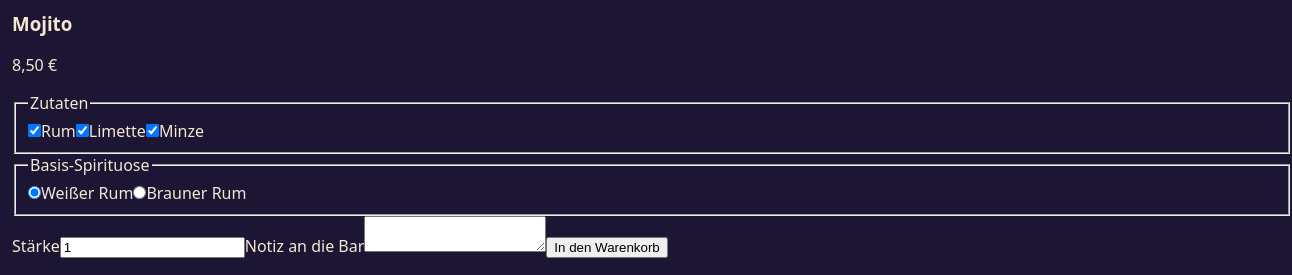
Scenario: Konfigurator › Auswahl einer anderen Basis-Spirituose wechselt die Selektion
The image size is (1292, 275).
Step 1. Click the radio button labelled "Brauner Rum" → (140, 192), box x1=133 y1=186 x2=146 y2=199
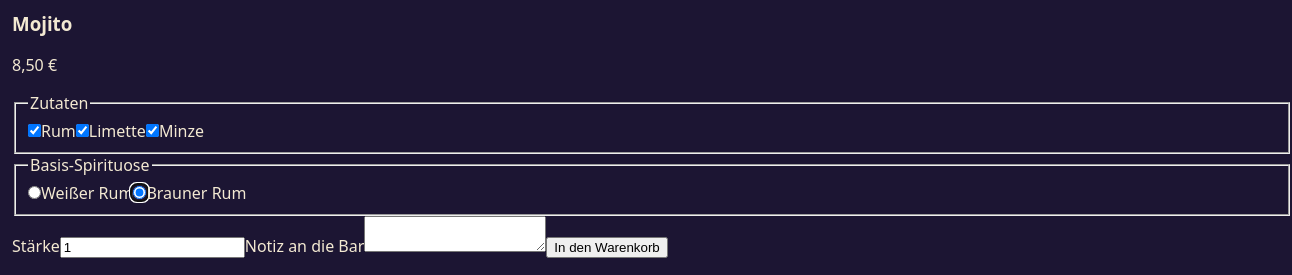
Result: the radio button labelled "Brauner Rum" is checked at x1=133 y1=186 x2=146 y2=199
Result: the radio button labelled "Weißer Rum" is not checked at x1=28 y1=186 x2=41 y2=199
